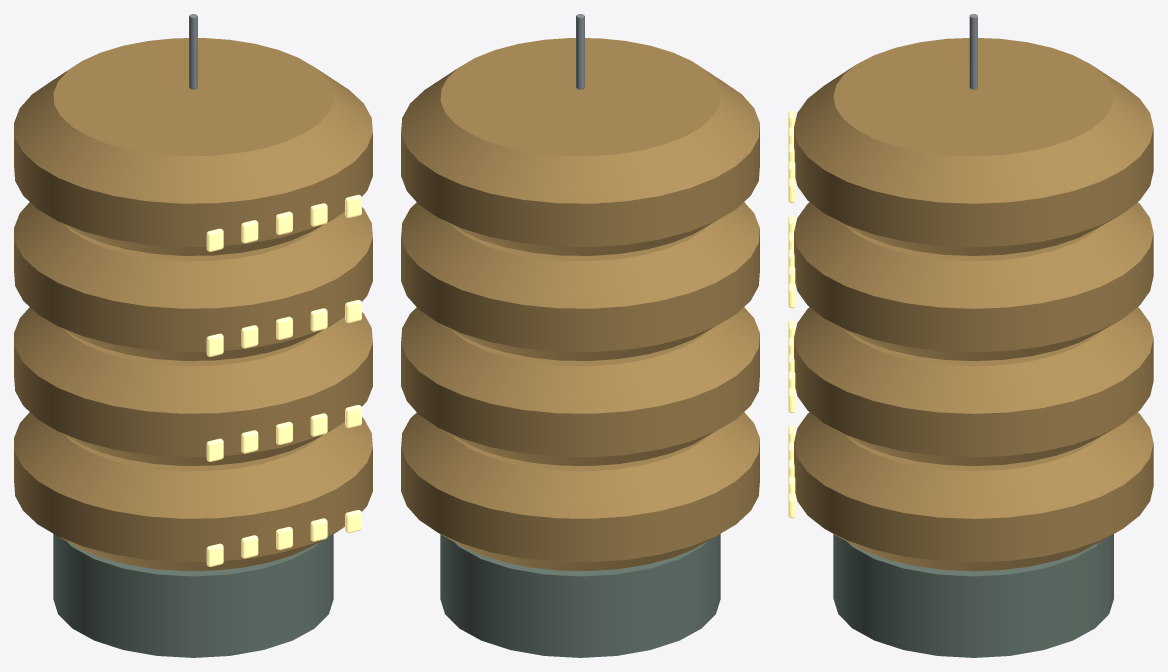
3 renders of one model, left to right at view 1: azimuth 30°, elevation 25°; view 2: azimuth 150°, elevation 25°; view 3: azimuth 270°, elevation 25°, orthographic.
Parts seen in each view (by area): view 1: Stacked residential saucer.003, Stacked residential saucer.001, Stacked residential saucer, Stacked residential saucer.002, Foundation drum, Aerial stem; view 2: Stacked residential saucer.003, Stacked residential saucer, Stacked residential saucer.001, Stacked residential saucer.002, Foundation drum, Aerial stem; view 3: Stacked residential saucer.003, Stacked residential saucer, Stacked residential saucer.001, Stacked residential saucer.002, Foundation drum, Aerial stem.
Part boxes in pixels (left/top/right/bottom): Stacked residential saucer.003: left=14, top=38, right=372, bottom=255; Stacked residential saucer.001: left=14, top=307, right=372, bottom=465; Stacked residential saucer: left=14, top=412, right=372, bottom=570; Stacked residential saucer.002: left=14, top=202, right=372, bottom=360; Foundation drum: left=53, top=534, right=333, bottom=657; Aerial stem: left=189, top=14, right=197, bottom=89; Stacked residential saucer.003: left=401, top=38, right=759, bottom=255; Stacked residential saucer: left=401, top=412, right=759, bottom=570; Stacked residential saucer.001: left=401, top=307, right=759, bottom=465; Stacked residential saucer.002: left=401, top=202, right=759, bottom=360; Foundation drum: left=440, top=534, right=720, bottom=657; Aerial stem: left=576, top=14, right=584, bottom=89; Stacked residential saucer.003: left=794, top=38, right=1153, bottom=255; Stacked residential saucer: left=794, top=412, right=1153, bottom=571; Stacked residential saucer.001: left=794, top=307, right=1153, bottom=466; Stacked residential saucer.002: left=794, top=202, right=1153, bottom=360; Foundation drum: left=833, top=534, right=1113, bottom=657; Aerial stem: left=969, top=14, right=977, bottom=89.
Size of the model in its own units: 1.8 by 3.22 by 1.83.
